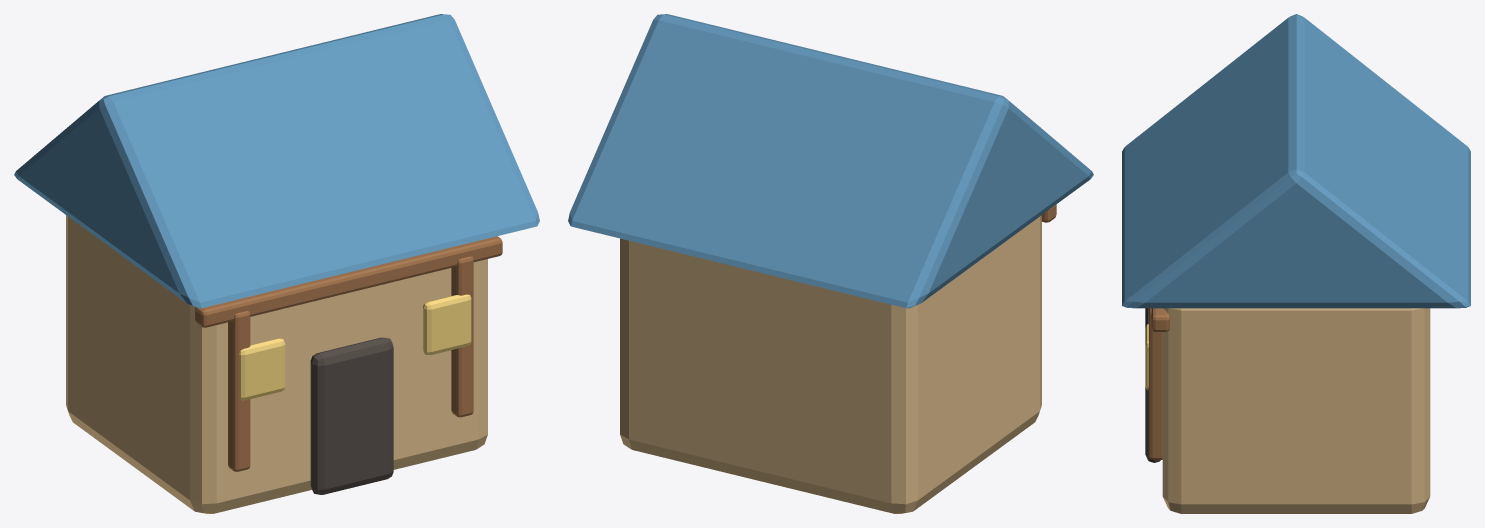
File: building_cottage_b.glb
3 renders of one model, left to right at view 1: azimuth 30°, elevation 25°; view 2: azimuth 150°, elevation 25°; view 3: azimuth 270°, elevation 25°, orthographic. The views are drawn at different scales.
Visible parts, largest first — view 1: Cottage_B_Roof.001, Cottage_B_House.001, Cottage_B_Door.001, Cottage_B_BeamTop.001, Cottage_B_BeamL.001, Cottage_B_WindowR.001, Cottage_B_BeamR.001, Cottage_B_WindowL.001; view 2: Cottage_B_Roof.001, Cottage_B_House.001; view 3: Cottage_B_Roof.001, Cottage_B_House.001, Cottage_B_BeamR.001, Cottage_B_BeamTop.001.
Part boxes in pixels (x1,y1,x2,y2): Cottage_B_Roof.001: (14,14,539,308); Cottage_B_House.001: (66,215,487,513); Cottage_B_Door.001: (310,337,393,494); Cottage_B_BeamTop.001: (195,236,502,327); Cottage_B_BeamL.001: (228,311,250,471); Cottage_B_WindowR.001: (423,294,471,355); Cottage_B_BeamR.001: (451,256,473,417); Cottage_B_WindowL.001: (239,338,285,400); Cottage_B_Roof.001: (568,14,1093,308); Cottage_B_House.001: (620,215,1041,513); Cottage_B_Roof.001: (1122,14,1470,308); Cottage_B_House.001: (1162,308,1430,513); Cottage_B_BeamR.001: (1149,308,1162,459); Cottage_B_BeamTop.001: (1151,308,1169,331).
Bounding box in the file's own units: 2 × 2.05 × 1.8.
